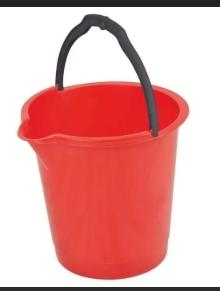SEAU: (0, 4, 220, 291)
